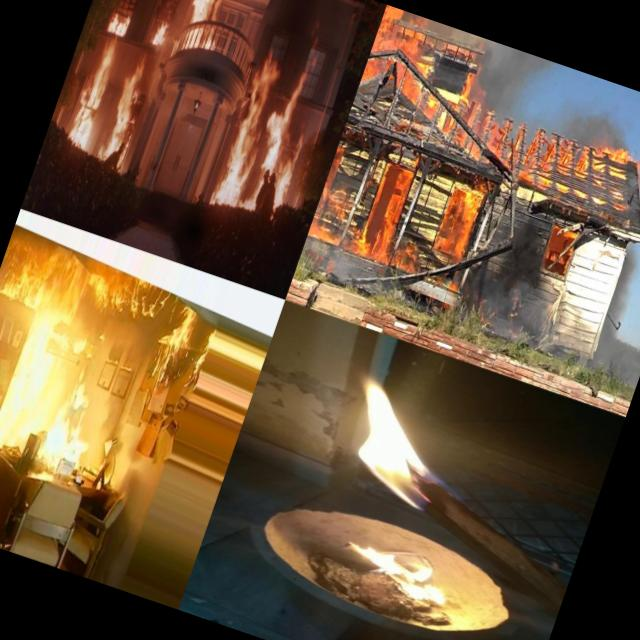fire: (310, 68, 630, 320), (318, 358, 486, 518), (210, 36, 332, 221), (0, 236, 163, 362), (364, 12, 489, 105), (90, 46, 164, 186), (62, 12, 130, 162), (340, 534, 458, 612), (35, 373, 111, 477), (147, 8, 175, 50), (383, 5, 425, 28)
smoke: (452, 280, 573, 364), (578, 242, 640, 390), (294, 231, 391, 303), (472, 47, 544, 121), (558, 92, 638, 154)
